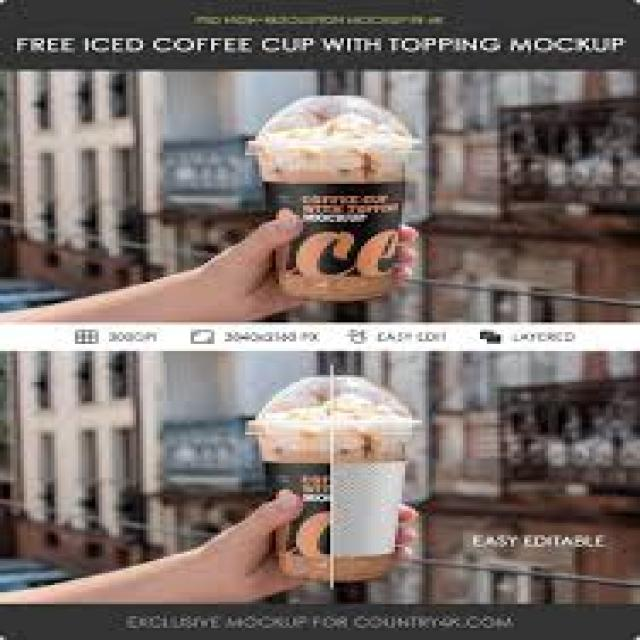bottle: (248, 419, 419, 582), (263, 151, 419, 301)
